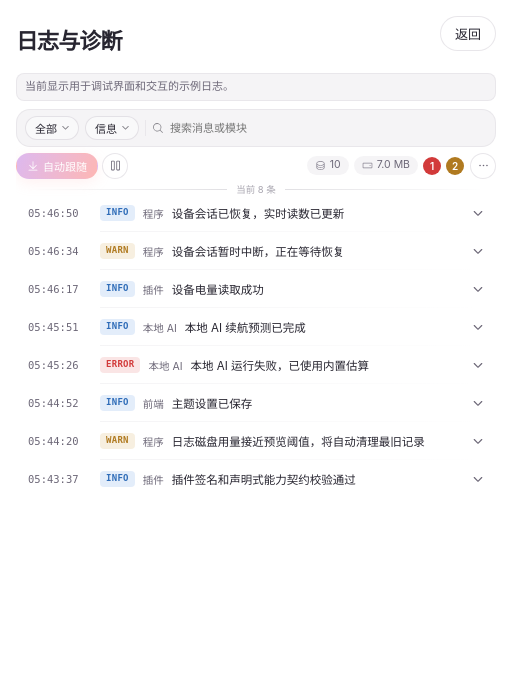
it: LogPage toolbar and dialogs › renders interactive sample logs without Tauri internals
The image size is (513, 674).
Expected: the heading "日志与诊断" is shown, [16, 23, 122, 55]
Expected: the text "当前显示用于调试界面和交互的示例日志。" is shown, [16, 73, 496, 101]
Click the button named "暂停刷新".
click(115, 166)  # box [102, 153, 128, 179]
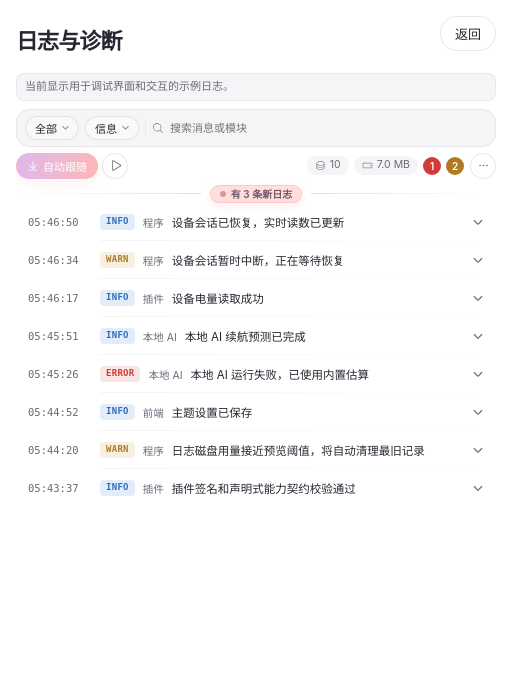
Expected: the button "有 3 条新日志" is shown, [210, 185, 302, 203]
Click the button named "继续刷新".
click(115, 166)  # box [102, 153, 128, 179]
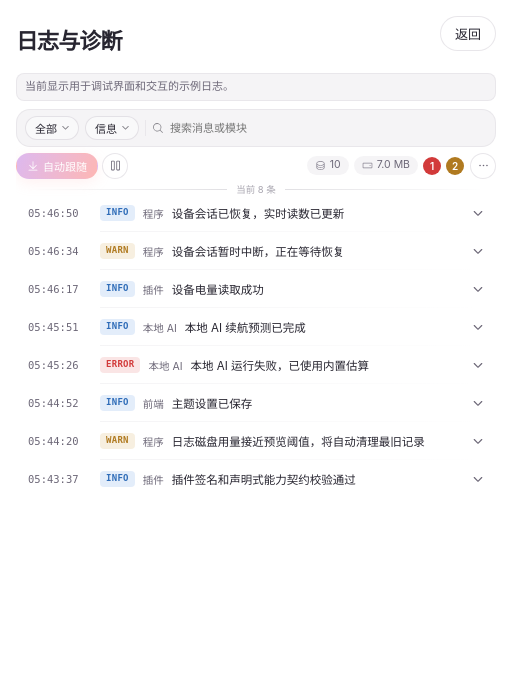
Expected: the text "当前 8 条" is shown, [236, 185, 276, 194]
Select "插件" in the dropdown named "来源" at (52, 128), box [25, 116, 79, 140]
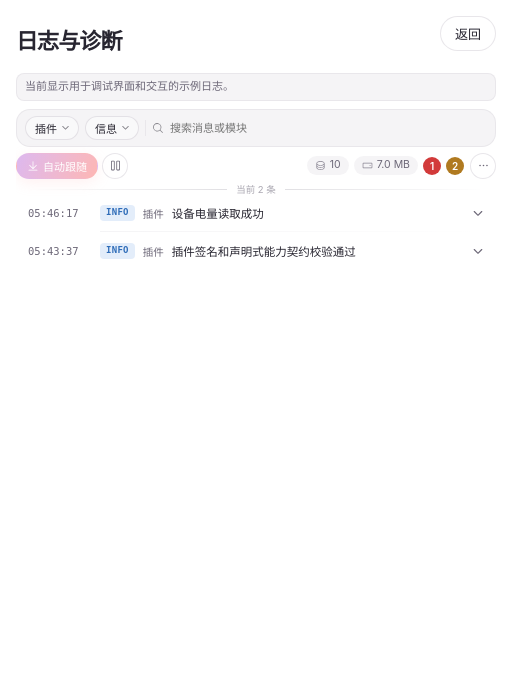
Expected: the text "当前 2 条" is shown, [236, 185, 276, 194]
Select "全部" in the dropdown named "来源" at (52, 128), box [25, 116, 79, 140]
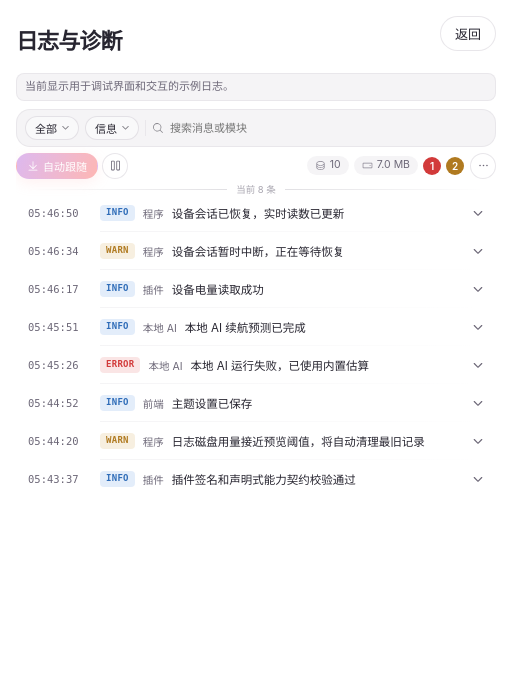
Expected: the button with aria-label "展开详情" is shown
Click the button with aria-label "展开详情".
click(256, 213)  # box [16, 198, 496, 228]
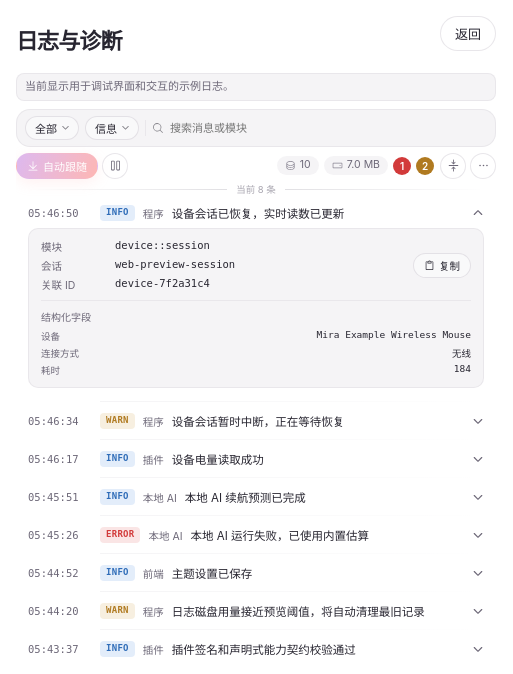
Expected: the text "device::session" is shown, [115, 239, 210, 251]
Expected: the text "device-7f2a31c4" is shown, [115, 277, 210, 289]
Expected: the text "无线" is shown, [452, 348, 471, 359]
